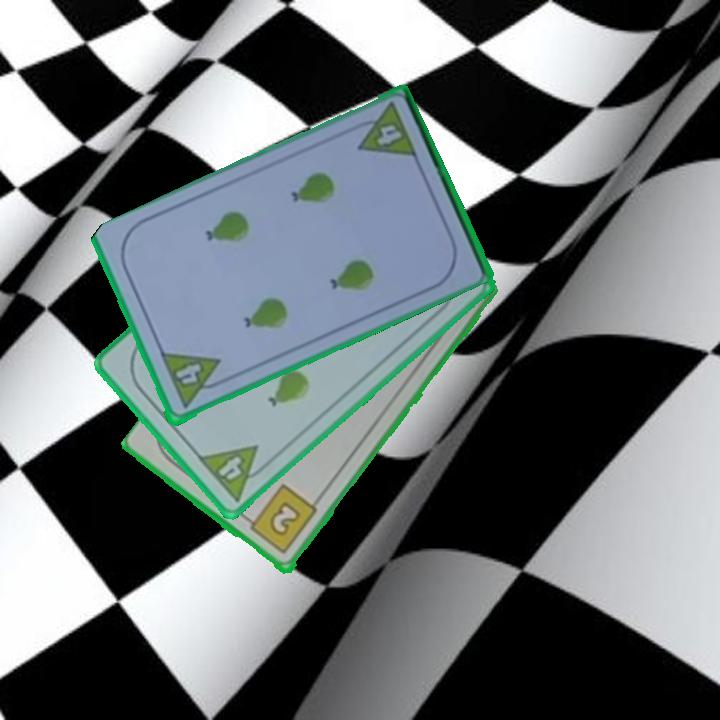2b: (240, 481, 320, 558)
4p: (194, 441, 275, 505), (157, 349, 230, 412), (345, 99, 419, 161)
